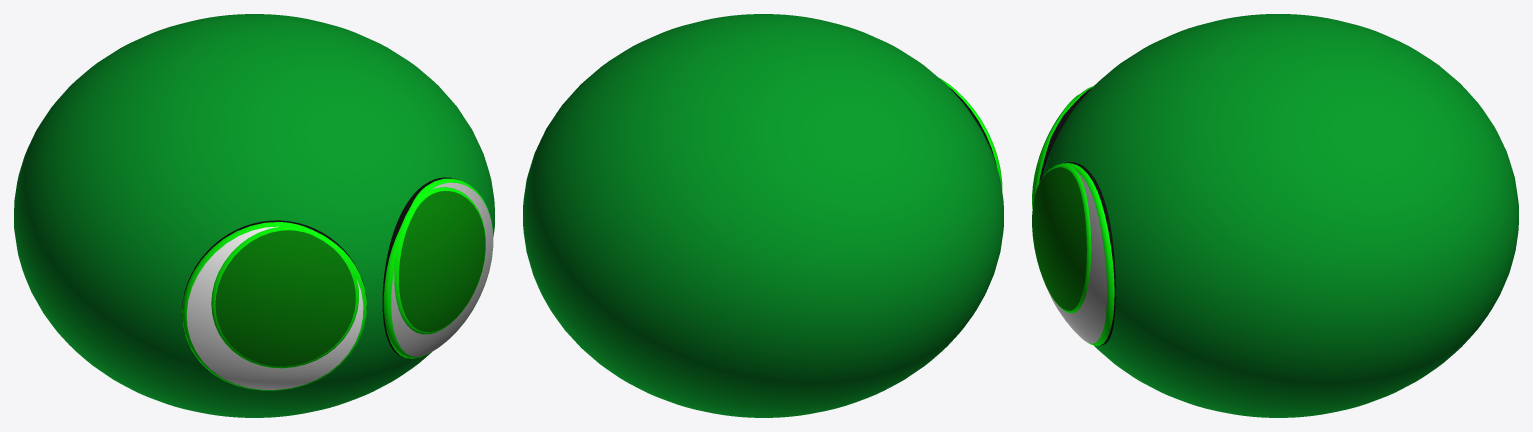
Rendered from tileBlue.FBX.
3 views of the same model, side by side, from view 1: azimuth 30°, elevation 25°; view 2: azimuth 150°, elevation 25°; view 3: azimuth 270°, elevation 25° (orthographic).
Parts seen in each view (by area): view 1: 캐릭터1; view 2: 캐릭터1; view 3: 캐릭터1.
Boxes of the visible parts, x1,y1,x2,y2 form: 캐릭터1: [14, 14, 494, 417]; 캐릭터1: [523, 14, 1003, 417]; 캐릭터1: [1032, 14, 1518, 417].
Size of the model in its own units: 14.52 by 14.69 by 11.62.
